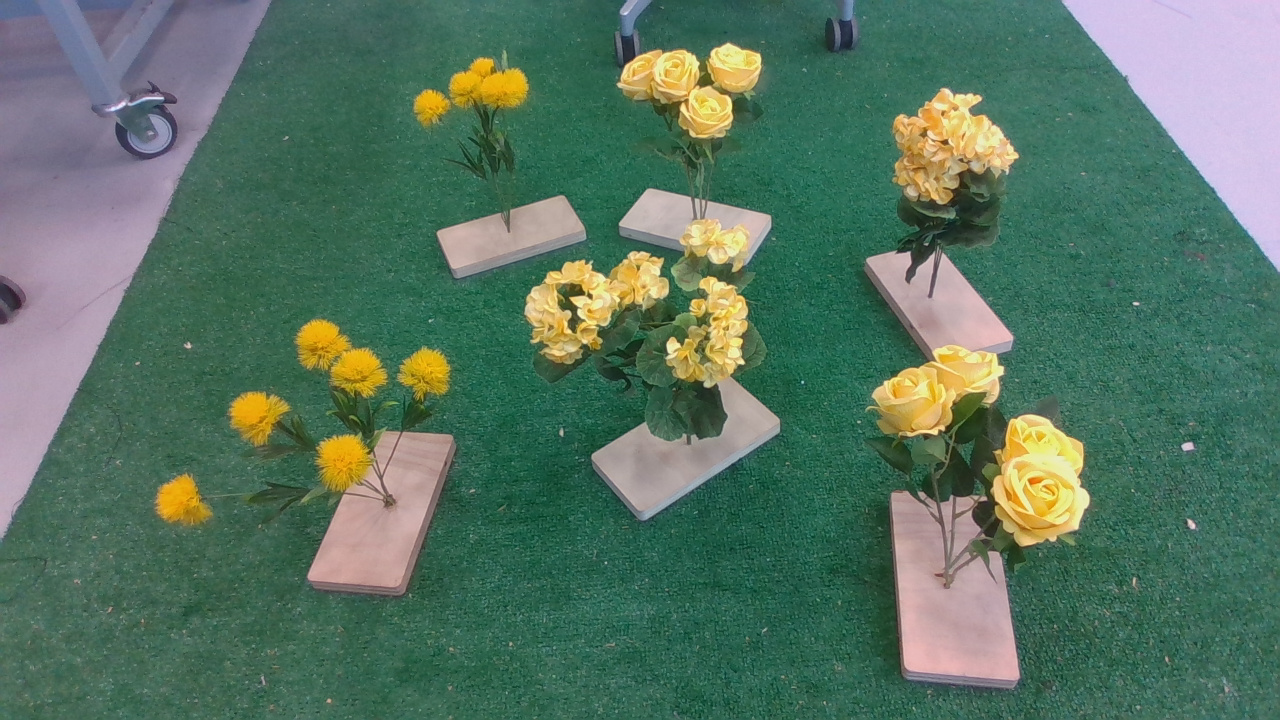dandelion: (136, 320, 463, 536), (413, 52, 548, 189)
geranium: (885, 92, 1026, 288)
rose: (860, 346, 1102, 584), (618, 43, 782, 175)
